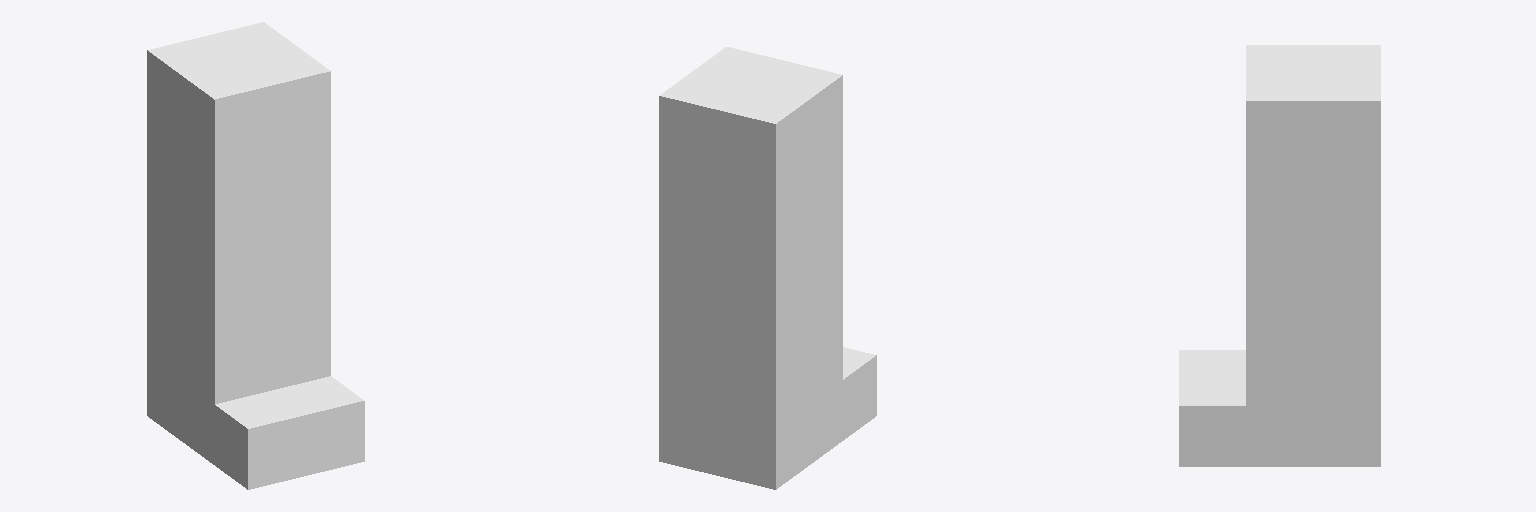
Rendered from player_leg-left.obj.
3 renders of one model, left to right at view 1: azimuth 30°, elevation 25°; view 2: azimuth 150°, elevation 25°; view 3: azimuth 270°, elevation 25°, orthographic.
Size of the model in its own units: 2 by 6 by 3.